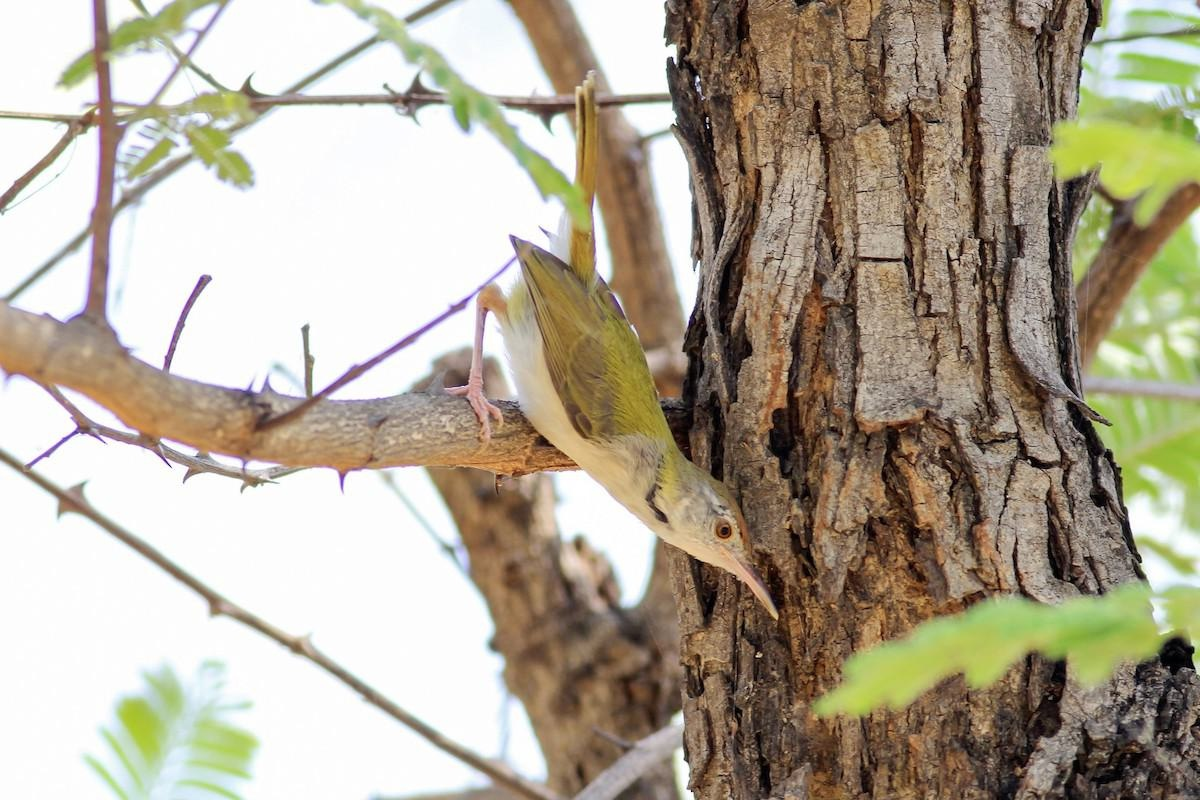tailorbird: (449, 67, 791, 623)
